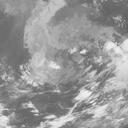cyclone: (27, 46, 103, 118)
